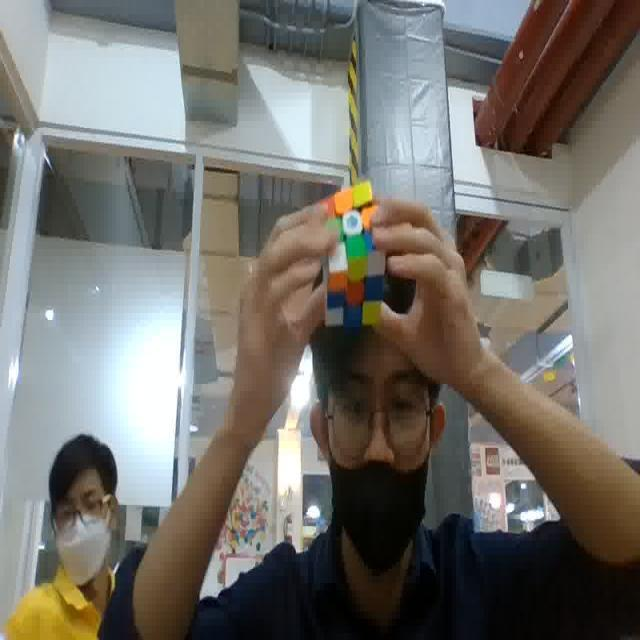Rub: (316, 176, 390, 326)
